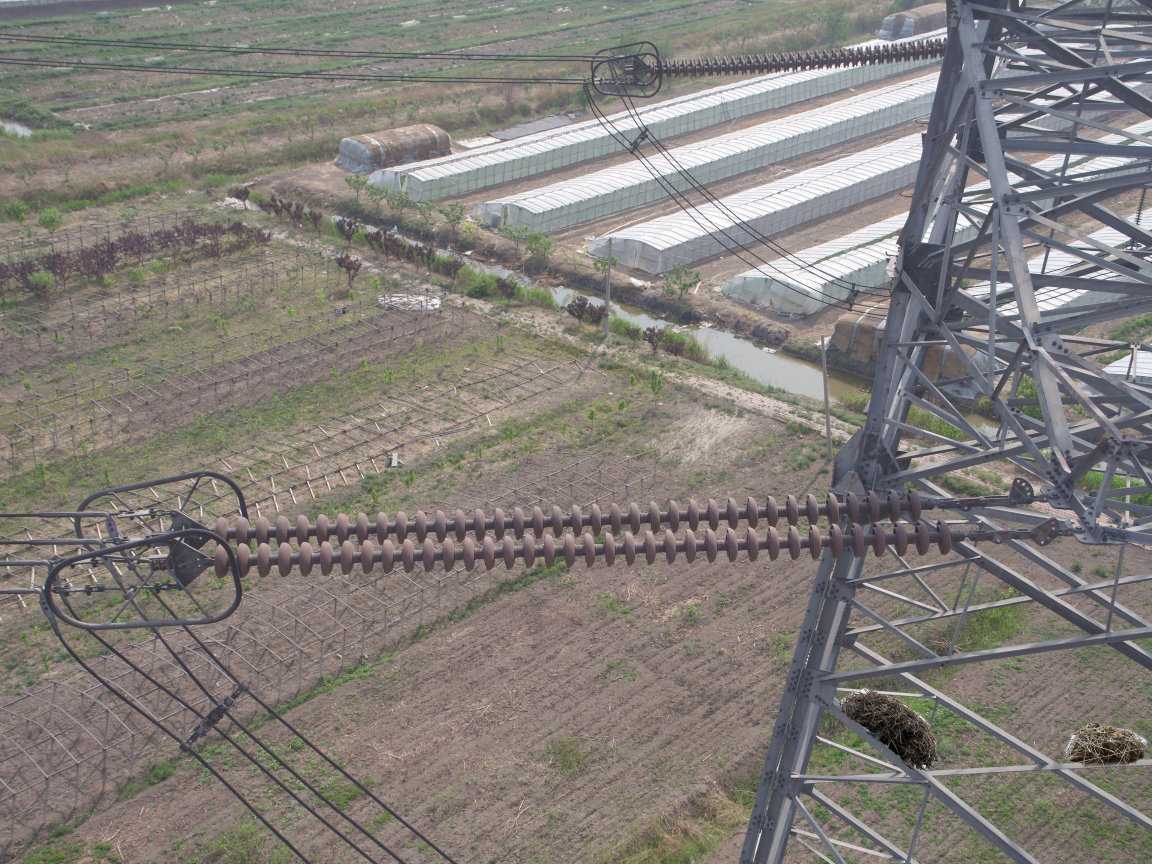nest: (838, 678, 942, 774), (1057, 722, 1150, 771)
